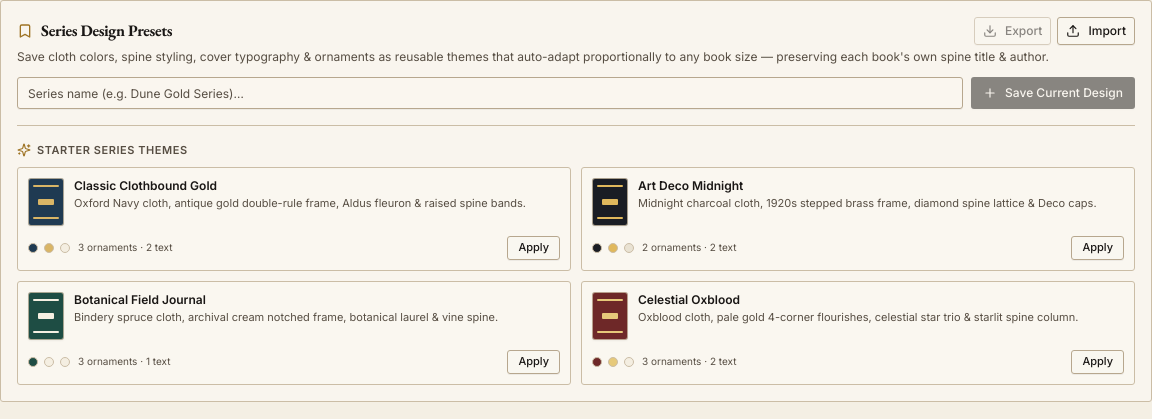
Test: DesignPresetsCard › saves a named preset and clears the input
Expected: the button with test id "save-design-preset-btn" is disabled, [971,77,1135,109]
Expected: the button with test id "export-presets-btn" is disabled, [974,17,1051,45]
In the field with test id "preset-name-input": (490, 93) [17,77,963,109], type "  My Fantasy Trilogy  "
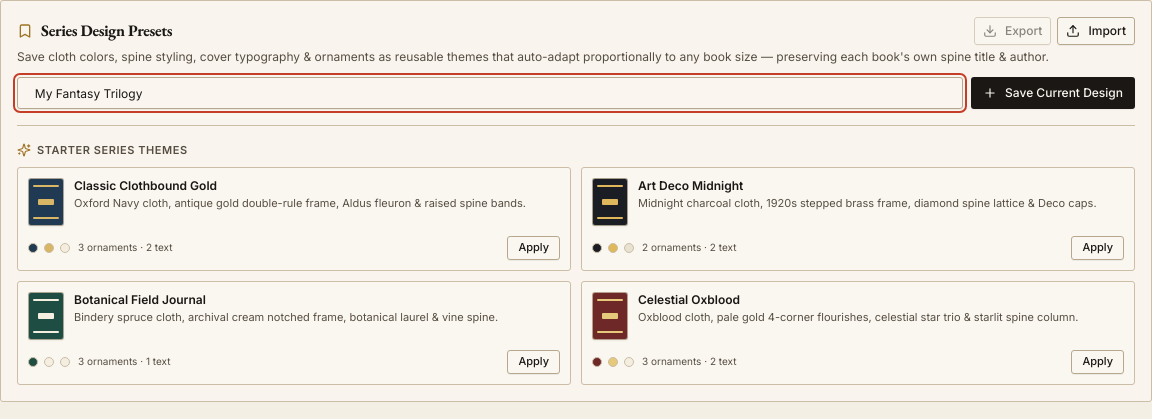
Expected: the button with test id "save-design-preset-btn" is enabled
Click the button with test id "save-design-preset-btn": (1053, 93) [971,77,1135,109]
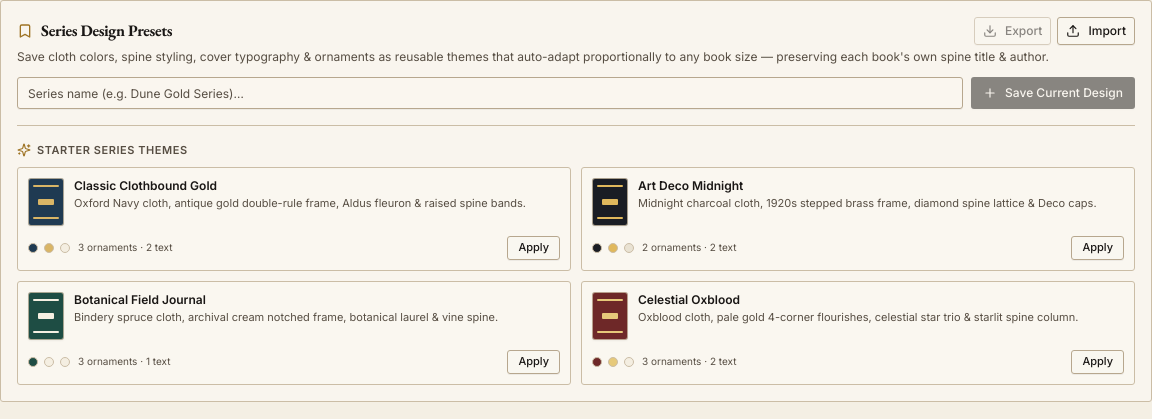
Expected: the field with test id "preset-name-input" is empty, [17,77,963,109]
